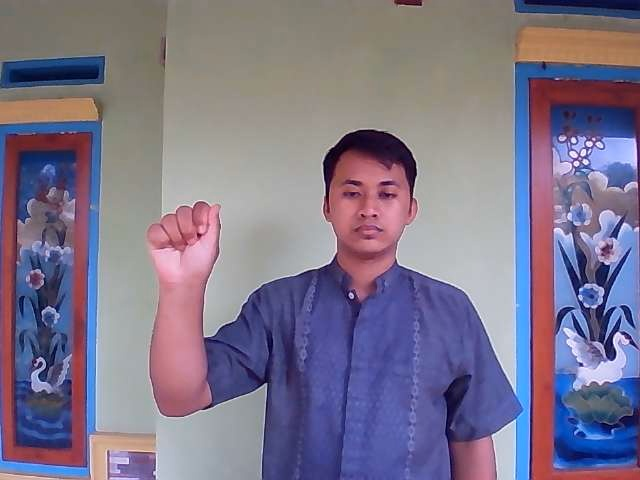A: (140, 195, 229, 302)
